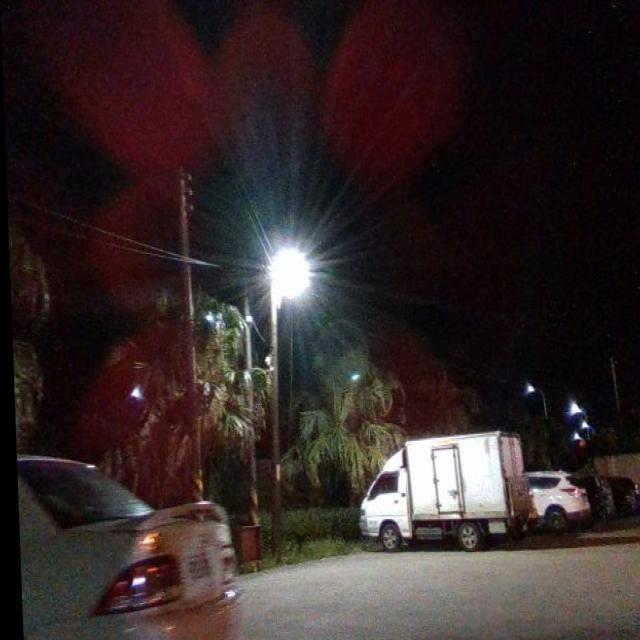pollute: (230, 525, 259, 575)
